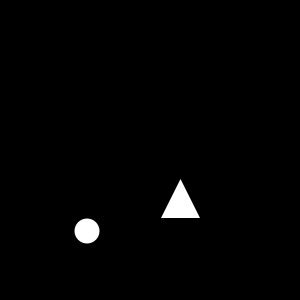rectangle: (74, 219, 100, 244)
triangle: (161, 179, 200, 218)
